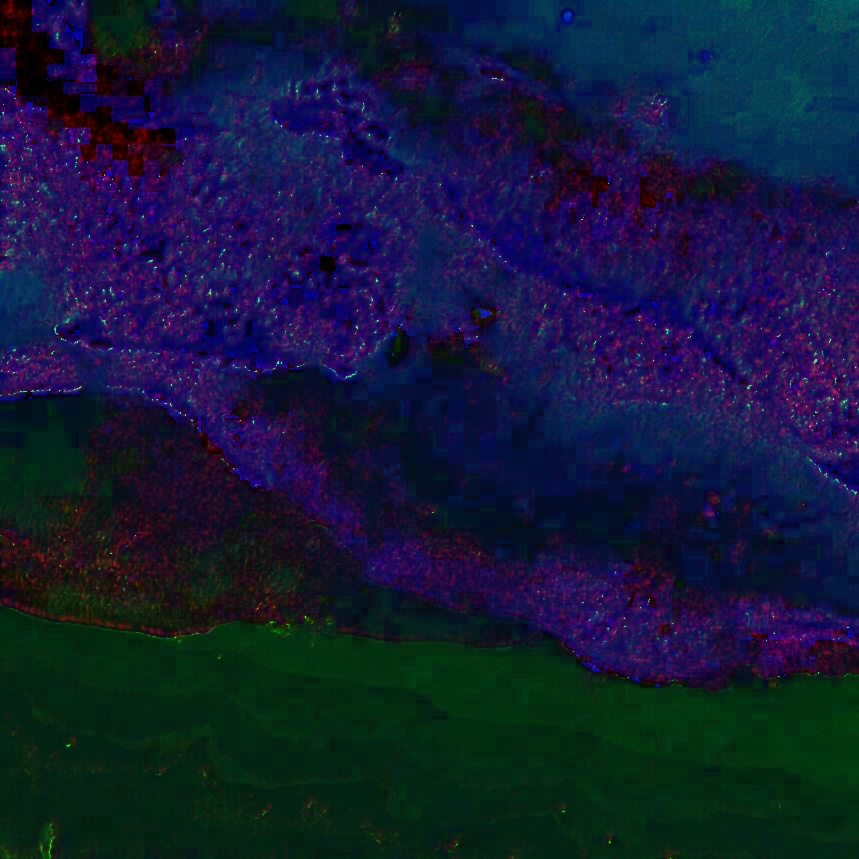rip_current: (300, 51, 621, 523)
